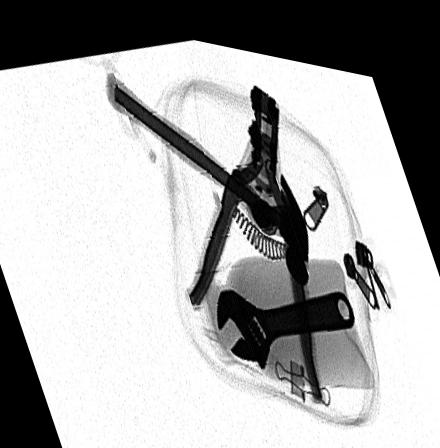Hammer: (106, 70, 313, 274)
Pliers: (185, 67, 325, 392)
Wrench: (214, 275, 357, 362)
